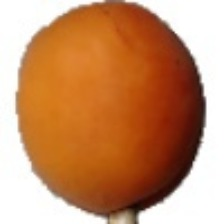apricot: (28, 45, 166, 216)
